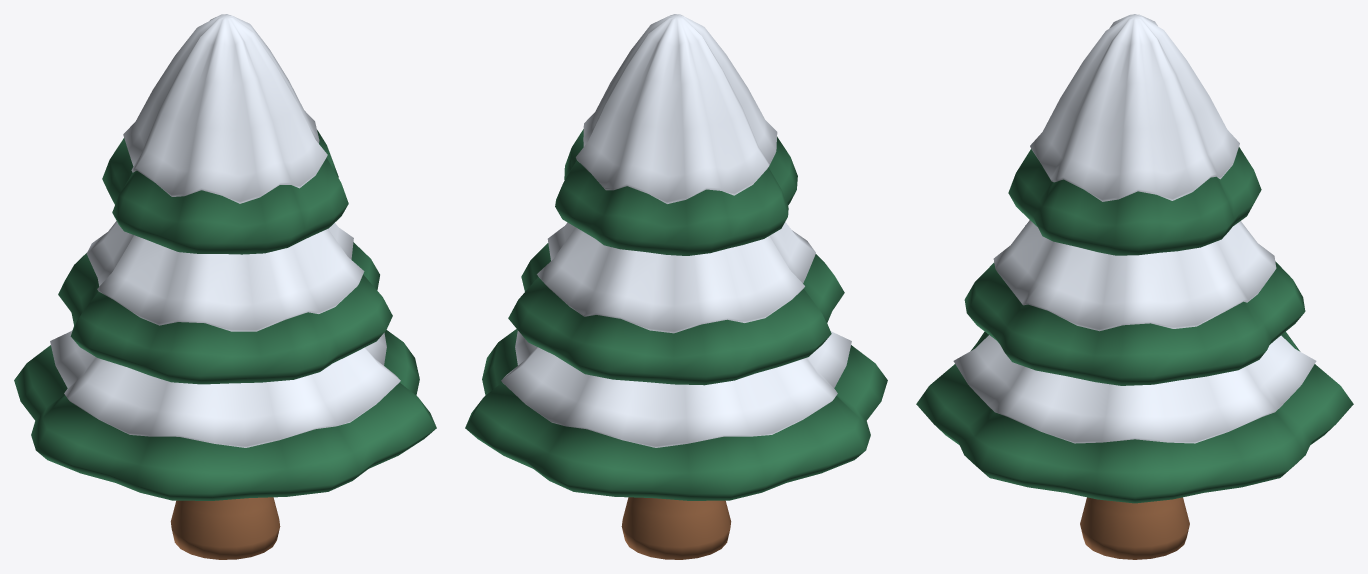
Rendered from deco-pino-nieve.glb.
The picture shows the model from 3 angles, left to right: view 1: azimuth 30°, elevation 25°; view 2: azimuth 150°, elevation 25°; view 3: azimuth 270°, elevation 25°; orthographic projection.
Visible parts, largest first — view 1: deco-pino-nieve; view 2: deco-pino-nieve; view 3: deco-pino-nieve.
Boxes of the visible parts, bbox=[...] form: deco-pino-nieve: bbox=[14, 14, 436, 559]; deco-pino-nieve: bbox=[465, 14, 887, 559]; deco-pino-nieve: bbox=[916, 14, 1353, 559].
Size of the model in its own units: 5.33 by 7 by 5.33.
